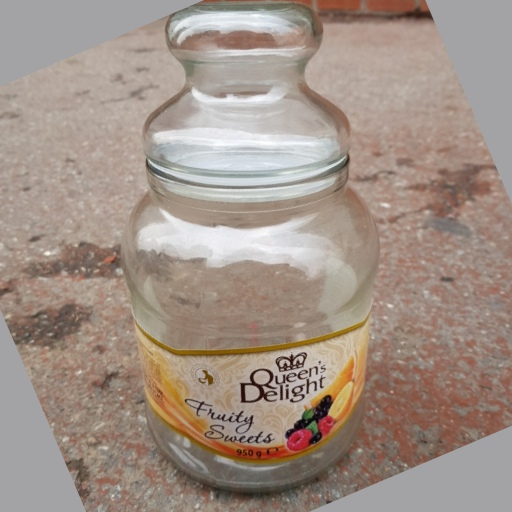Glass_5: (124, 1, 386, 489)
